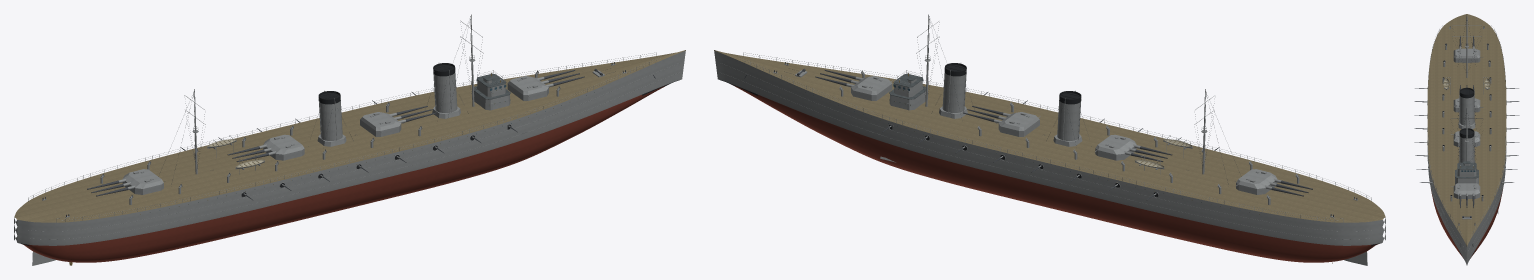
Rendered from sevastopol_1914.glb.
3 renders of one model, left to right at view 1: azimuth 30°, elevation 25°; view 2: azimuth 150°, elevation 25°; view 3: azimuth 270°, elevation 25°, orthographic. The views are drawn at different scales.
Visible parts, largest first — view 1: Sevastopol class; view 2: Sevastopol class; view 3: Sevastopol class.
Boxes of the visible parts, x1,y1,x2,y2 form: Sevastopol class: (14,14,685,265); Sevastopol class: (714,14,1385,265); Sevastopol class: (1414,14,1519,265).
Bounding box in the file's own units: 188 × 39.4 × 35.48.
9 materials, 8 textured.
